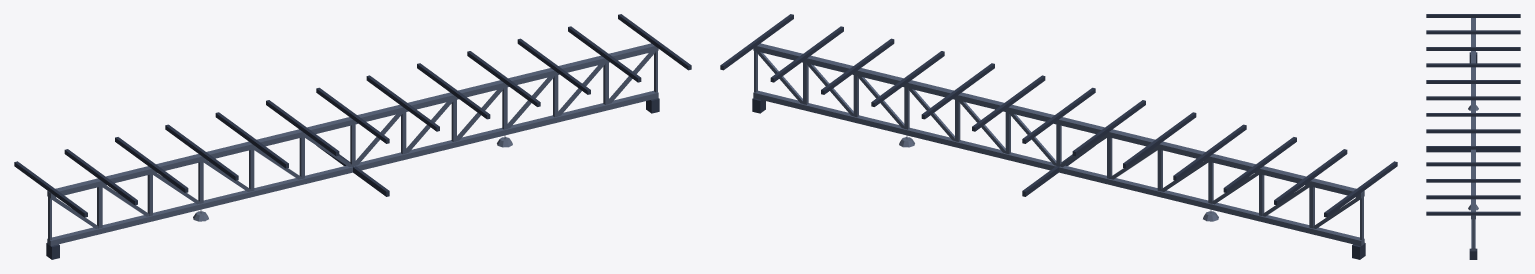
File: port_warehouse_roof_truss.glb
3 renders of one model, left to right at view 1: azimuth 30°, elevation 25°; view 2: azimuth 150°, elevation 25°; view 3: azimuth 270°, elevation 25°, orthographic. The views are drawn at different scales.
Parts seen in each view (by area): view 1: truss, purlin; view 2: truss, purlin; view 3: purlin, truss.
Part boxes in pixels (x1,y1,x2,y2): truss: (47,43,658,245); purlin: (14,14,691,259); truss: (753,43,1364,245); purlin: (720,14,1397,259); purlin: (1426,14,1520,259); truss: (1471,18,1475,251).
Size of the model in its own units: 30 by 3.3 by 6.
